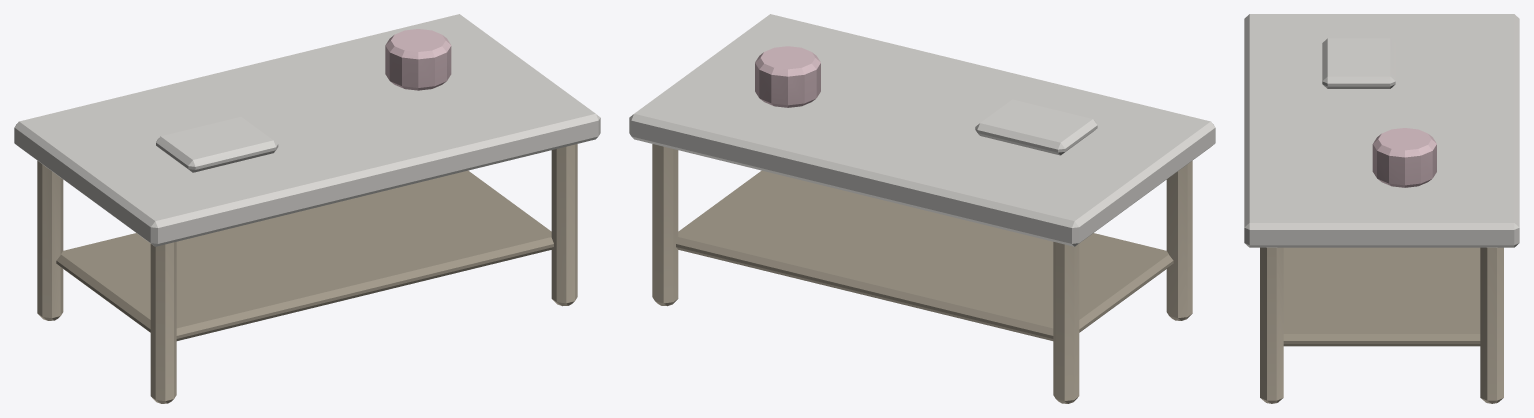
The model's file is furn_coffee_table__white.glb.
The picture shows the model from 3 angles, left to right: view 1: azimuth 30°, elevation 25°; view 2: azimuth 150°, elevation 25°; view 3: azimuth 270°, elevation 25°; orthographic projection. The views are drawn at different scales.
Size of the model in its own units: 1.1 by 0.54 by 0.6.
